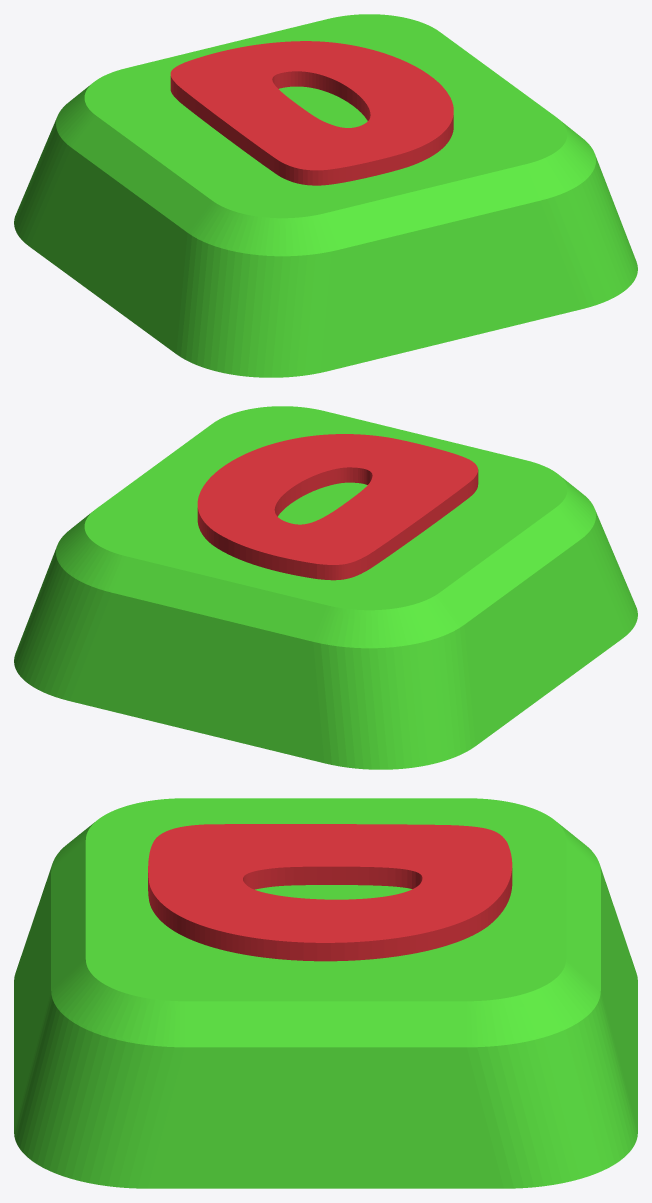
3 renders of one model, top to bottom at view 1: azimuth 30°, elevation 25°; view 2: azimuth 150°, elevation 25°; view 3: azimuth 270°, elevation 25°, orthographic. The views are drawn at different scales.
Parts seen in each view (by area): view 1: CAPS_D, FONT_D; view 2: CAPS_D, FONT_D; view 3: CAPS_D, FONT_D.
Part boxes in pixels (left/top/right/bottom): CAPS_D: left=14, top=14, right=637, bottom=377; FONT_D: left=170, top=41, right=453, bottom=185; CAPS_D: left=14, top=406, right=637, bottom=769; FONT_D: left=197, top=434, right=478, bottom=580; CAPS_D: left=14, top=798, right=637, bottom=1188; FONT_D: left=148, top=824, right=512, bottom=961.
Size of the model in its own units: 18 by 5.59 by 18.
